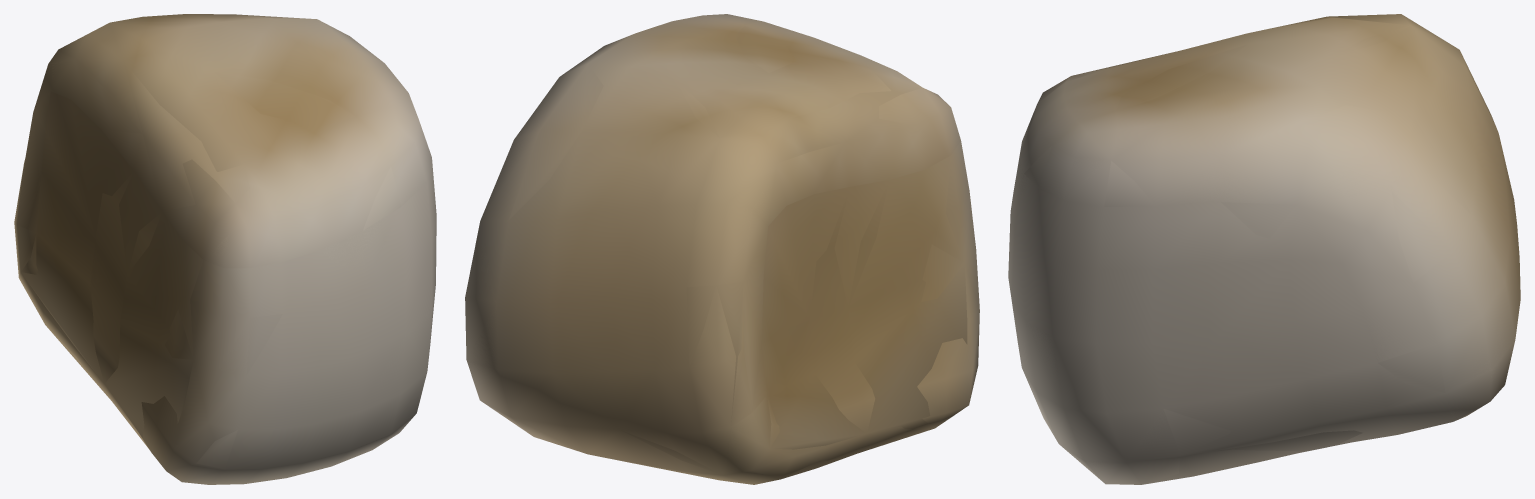
File: R carpi radiale.fbx
3 renders of one model, left to right at view 1: azimuth 30°, elevation 25°; view 2: azimuth 150°, elevation 25°; view 3: azimuth 270°, elevation 25°, orthographic. The views are drawn at different scales.
Parts seen in each view (by area): view 1: R carpi radiale, R carpi radiale low; view 2: R carpi radiale, R carpi radiale low; view 3: R carpi radiale, R carpi radiale low.
Boxes of the visible parts, <box> form: R carpi radiale: <box>14,14,436,484</box>; R carpi radiale low: <box>15,14,431,468</box>; R carpi radiale: <box>465,14,979,484</box>; R carpi radiale low: <box>466,25,967,478</box>; R carpi radiale: <box>1008,14,1520,484</box>; R carpi radiale low: <box>1016,17,1514,484</box>.
Bounding box in the file's own units: 0.8787 × 1.02 × 1.18.
